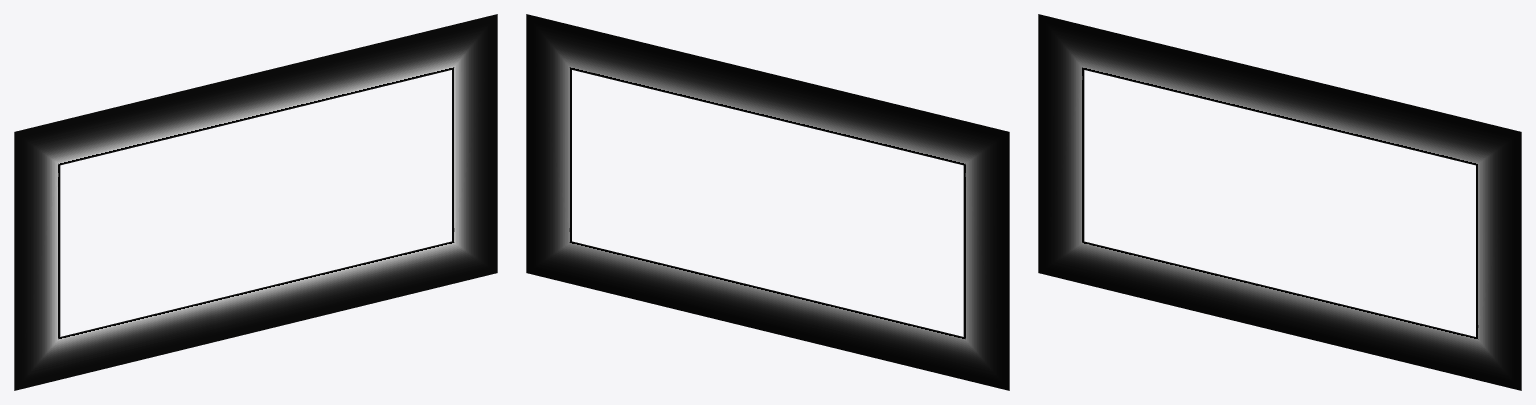
Rendered from liubian_chang03.FBX.
The picture shows the model from 3 angles, left to right: view 1: azimuth 30°, elevation 25°; view 2: azimuth 150°, elevation 25°; view 3: azimuth 330°, elevation 25°; orthographic projection.
Visible parts, largest first — view 1: Plane002; view 2: Plane002; view 3: Plane002.
Part boxes in pixels (x1,y1,x2,y2): Plane002: (14, 14, 497, 390); Plane002: (526, 14, 1009, 390); Plane002: (1038, 14, 1521, 390).
Bounding box in the file's own units: 161 × 82.68 × 3.86e-06.
Materials: 1 (1 with a texture image).
